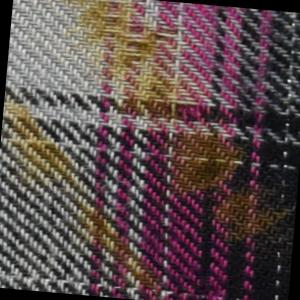Oil Stain: (1, 1, 300, 300)
